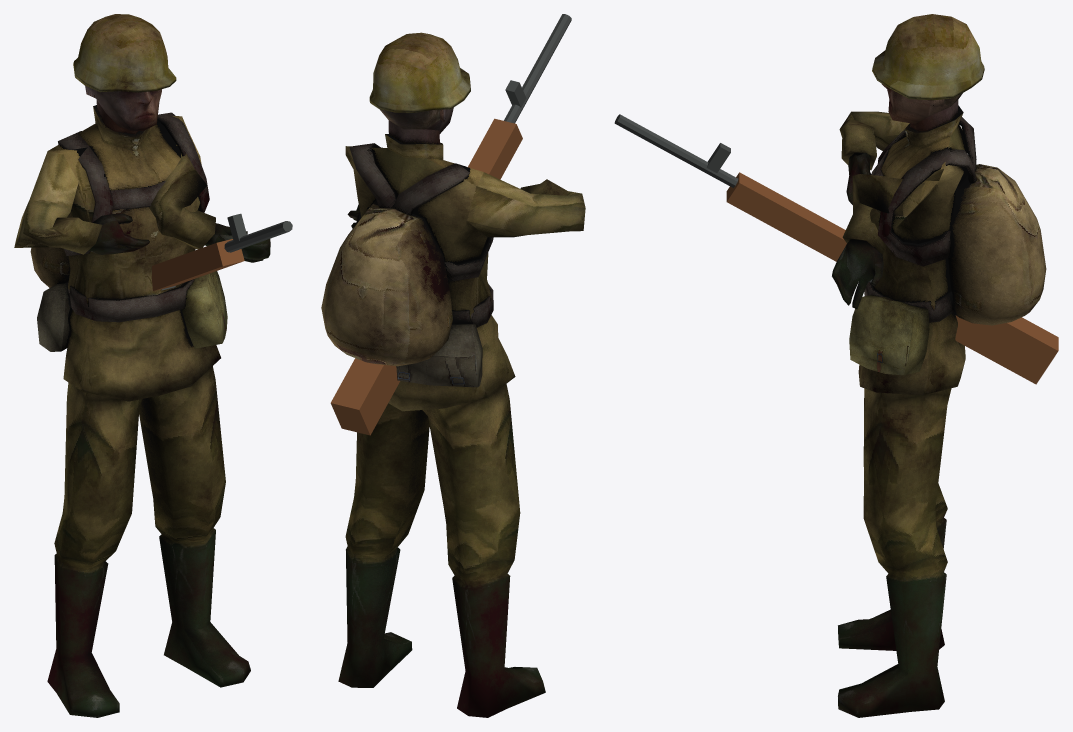
Rendered from soviet_ww2_soldier_death_00.glb.
The picture shows the model from 3 angles, left to right: view 1: azimuth 30°, elevation 25°; view 2: azimuth 150°, elevation 25°; view 3: azimuth 270°, elevation 25°; orthographic projection.
Visible parts, largest first — view 1: final_Static, SovietRifle_Generated; view 2: final_Static, SovietRifle_Generated; view 3: final_Static, SovietRifle_Generated.
Part boxes in pixels (left/top/right/bottom): final_Static: left=14, top=14, right=270, bottom=717; SovietRifle_Generated: left=151, top=213, right=292, bottom=291; final_Static: left=321, top=32, right=585, bottom=717; SovietRifle_Generated: left=330, top=14, right=571, bottom=435; final_Static: left=832, top=14, right=1046, bottom=717; SovietRifle_Generated: left=614, top=114, right=1058, bottom=384.
Bounding box in the file's own units: 0.6811 × 1.76 × 1.08.
3 materials, 1 textured.
